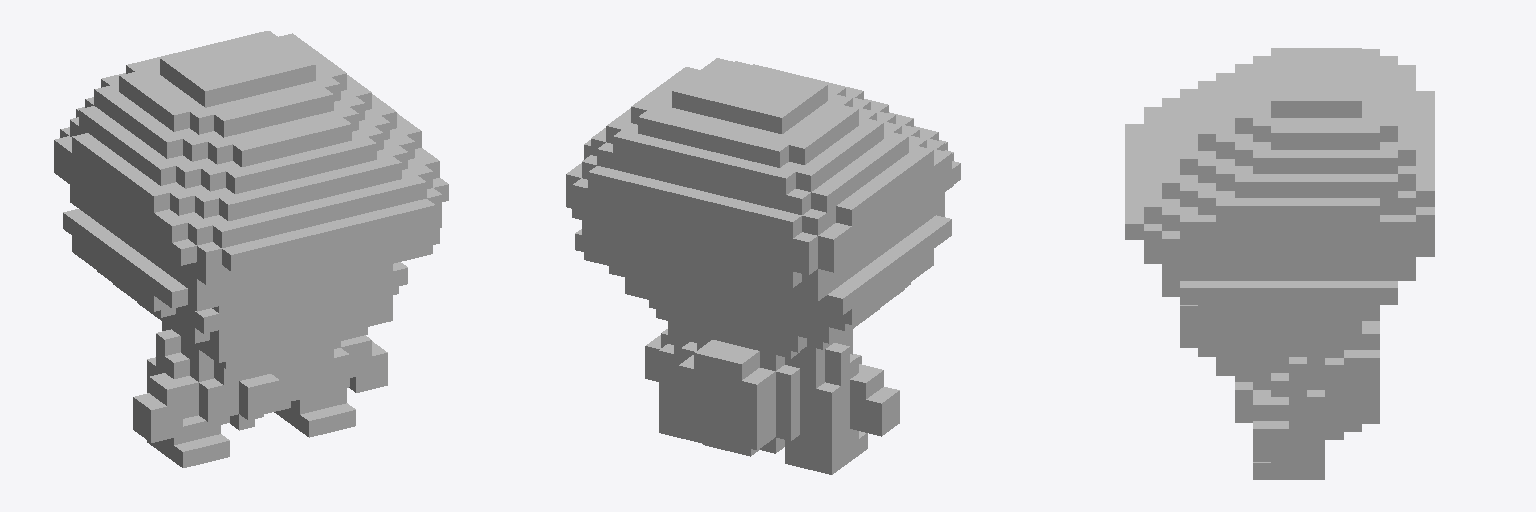
Rendered from lucas.obj.
3 views of the same model, side by side, from view 1: azimuth 30°, elevation 25°; view 2: azimuth 150°, elevation 25°; view 3: azimuth 270°, elevation 25° (orthographic).
Parts seen in each view (by area): view 1: Untitled_palette; view 2: Untitled_palette; view 3: Untitled_palette.
Boxes of the visible parts, box(x1,y1,x2,y2) form: Untitled_palette: box(54, 31, 448, 467); Untitled_palette: box(566, 58, 960, 474); Untitled_palette: box(1125, 48, 1434, 479).
Bounding box in the file's own units: 1.7 × 2.2 × 1.7.